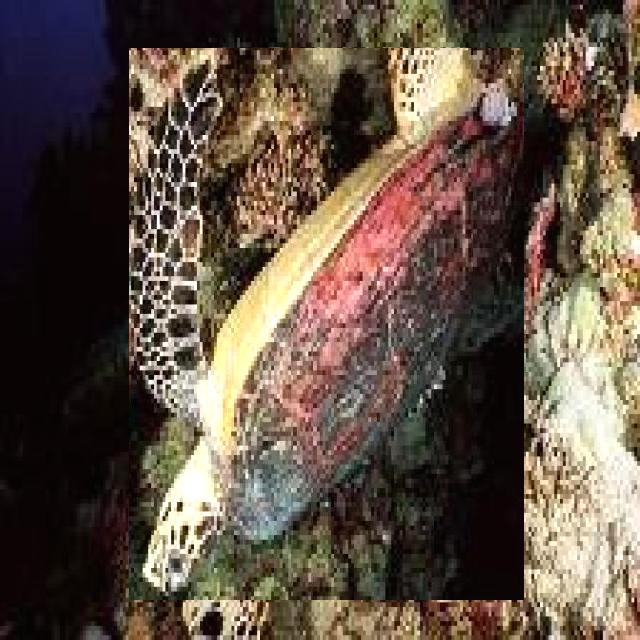Sea turtle: (130, 48, 526, 600)
